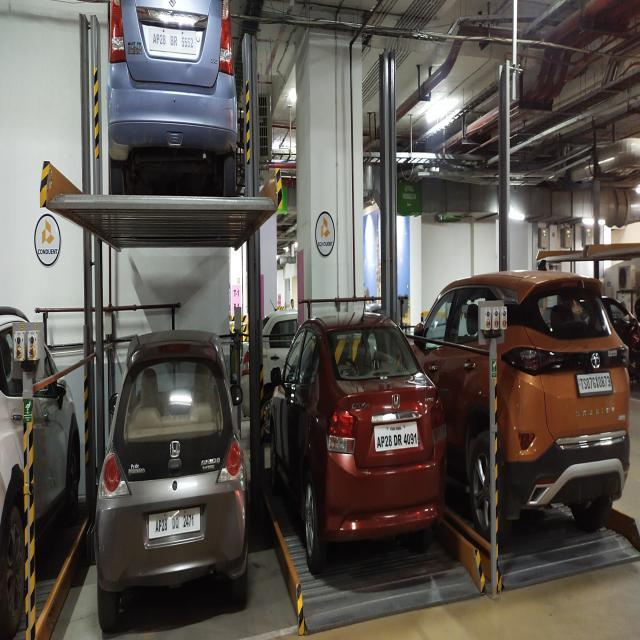car: (286, 334, 434, 584), (104, 364, 246, 610), (480, 318, 622, 551), (106, 0, 247, 202)
